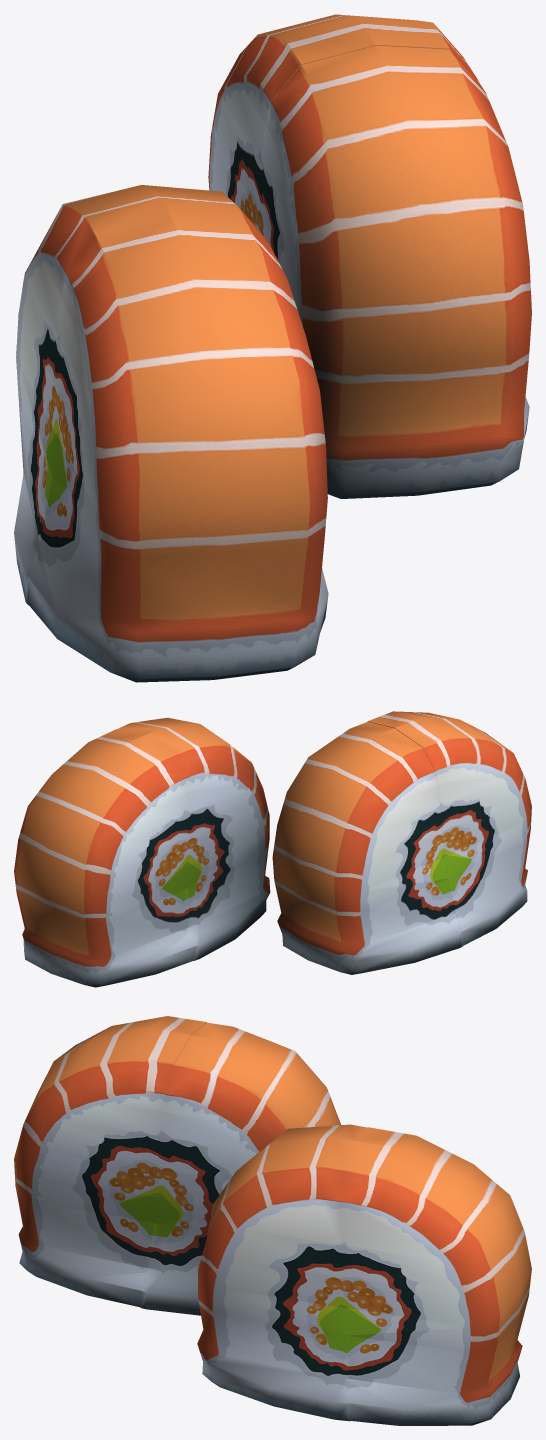
Rendered from Sushi.fbx.
The picture shows the model from 3 angles, top to bottom: view 1: azimuth 30°, elevation 25°; view 2: azimuth 150°, elevation 25°; view 3: azimuth 270°, elevation 25°; orthographic projection. The views are drawn at different scales.
Visible parts, largest first — view 1: polySurface18, polySurface17, polySurface19, polySurface16; view 2: polySurface16, polySurface19, polySurface18, polySurface17; view 3: polySurface16, polySurface17, polySurface18, polySurface19.
Boxes of the visible parts, bbox=[...] form: polySurface18: bbox=[28, 216, 328, 682]; polySurface17: bbox=[257, 45, 531, 498]; polySurface19: bbox=[14, 185, 274, 605]; polySurface16: bbox=[208, 14, 477, 228]; polySurface16: bbox=[14, 729, 195, 987]; polySurface19: bbox=[272, 721, 462, 974]; polySurface18: bbox=[367, 711, 531, 945]; polySurface17: bbox=[118, 717, 270, 960]; polySurface16: bbox=[340, 1127, 531, 1425]; polySurface17: bbox=[197, 1124, 366, 1421]; polySurface18: bbox=[14, 1016, 206, 1307]; polySurface19: bbox=[140, 1022, 340, 1315].
Bounding box in the file's own units: 31.19 × 17.9 × 33.56.
Materials: 1 (1 with a texture image).
